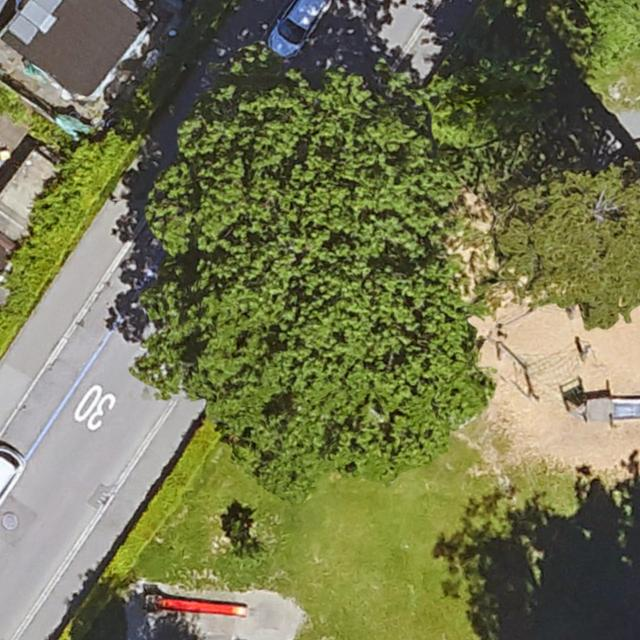tree: (143, 65, 488, 482), (504, 165, 640, 314), (437, 57, 544, 173), (555, 0, 640, 89), (228, 517, 269, 560)
